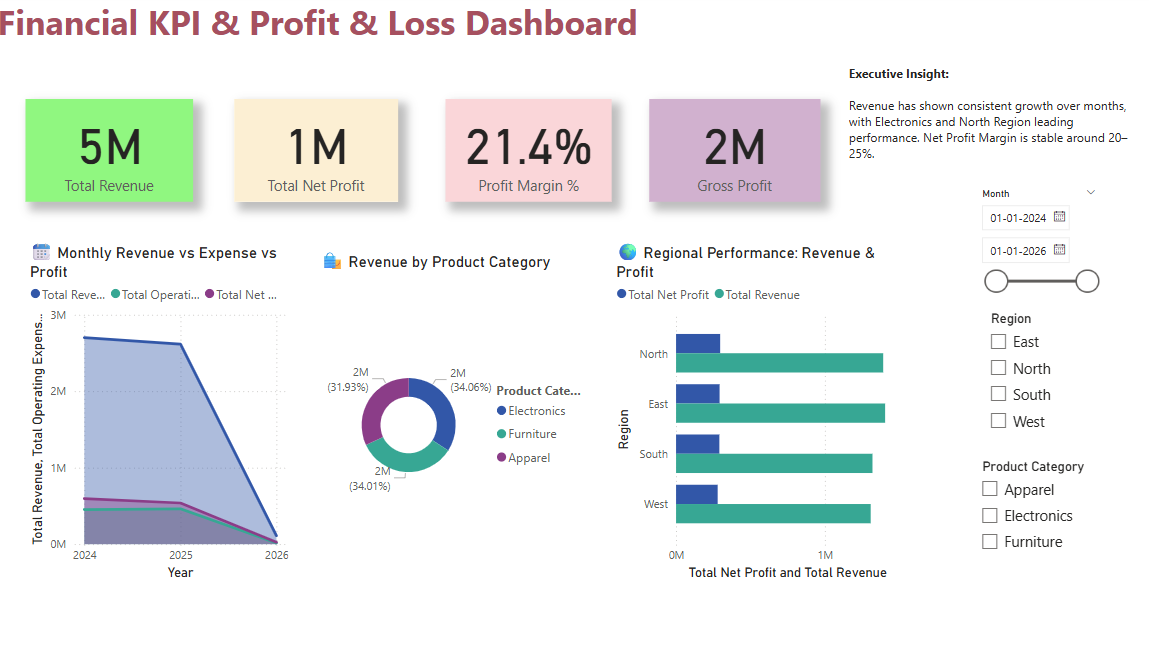

The page's visual inventory and layout, read from the dashboard file:
{"tool":"powerbi","page":{"name":"Page 1","canvas":[1280,720],"ordinal":0},"visuals":[{"type":"card","fields":{"Values":["table.Total Revenue"]},"box":[35.7,115.3,183.9,112.5],"z":0},{"type":"card","fields":{"Values":["table.Total Net Profit"]},"box":[264.8,115.3,179.8,112.5],"z":1},{"type":"card","fields":{"Values":["table.Profit Margin %"]},"box":[496.7,115.3,182.5,112.5],"z":2},{"type":"card","fields":{"Values":["table.Gross Profit"]},"box":[720.4,115.3,188,112.5],"z":3},{"type":"areaChart","title":"📆 Monthly Revenue vs Expense vs Profit","fields":{"Category":["table.Month.Variation.Date Hierarchy.Year","table.Month.Variation.Date Hierarchy.Quarter","table.Month.Variation.Date Hierarchy.Month","table.Month.Variation.Date Hierarchy.Day"],"Y":["table.Total Revenue","table.Total Operating Expense","table.Total Net Profit"]},"box":[35.7,270.3,293.7,377.4],"z":4},{"type":"donutChart","title":"🛍️ Revenue by Product Category","fields":{"Category":["table.Product Category"],"Y":["table.Total Revenue"]},"box":[355.4,279.9,299.1,367.8],"z":5},{"type":"clusteredBarChart","title":"🌍 Regional Performance: Revenue & Profit","fields":{"Category":["table.Region"],"Y":["table.Total Net Profit","table.Total Revenue"]},"box":[679.2,270.3,334.8,377.4],"z":6},{"type":"slicer","fields":{"Values":["table.Month"]},"box":[1073.1,207.2,149.6,124.9],"z":7},{"type":"slicer","fields":{"Values":["table.Region"]},"box":[1082.7,343.1,140,149.6],"z":8},{"type":"slicer","fields":{"Values":["table.Product Category"]},"box":[1073.1,505,182.5,124.9],"z":9},{"type":"textbox","box":[0,0,1280.3,87.8],"z":10},{"type":"textbox","box":[934.5,72.7,334.8,123.5],"z":11}]}

Visuals, with their boxes in screenshot pixels (x1, y1, x2, y2), scaled from the page's 1280x720 canvas onto the 1149x648 screenshot:
card - table.Total Revenue: [32,104,197,205]
card - table.Total Net Profit: [238,104,399,205]
card - table.Profit Margin %: [446,104,610,205]
card - table.Gross Profit: [647,104,815,205]
"📆 Monthly Revenue vs Expense vs Profit" areaChart: [32,243,296,583]
"🛍️ Revenue by Product Category" donutChart: [319,252,588,583]
"🌍 Regional Performance: Revenue & Profit" clusteredBarChart: [610,243,910,583]
slicer - table.Month: [963,186,1098,299]
slicer - table.Region: [972,309,1098,443]
slicer - table.Product Category: [963,454,1127,567]
textbox: [0,0,1148,79]
textbox: [839,65,1139,177]
